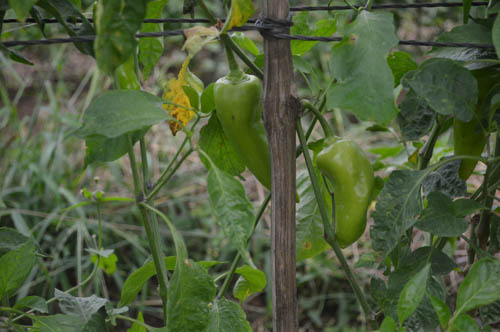ChiliPepper: (220, 76, 272, 189), (322, 139, 373, 249), (455, 94, 485, 186)
